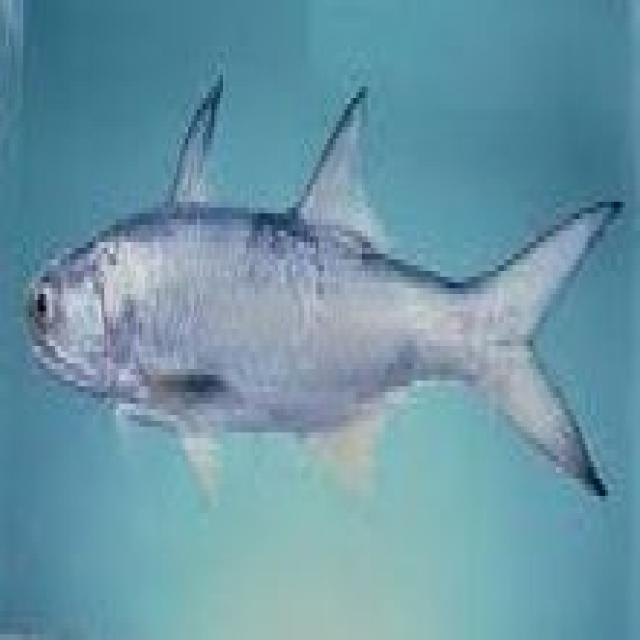Fourfinger-Threadfin: (12, 82, 630, 516)
